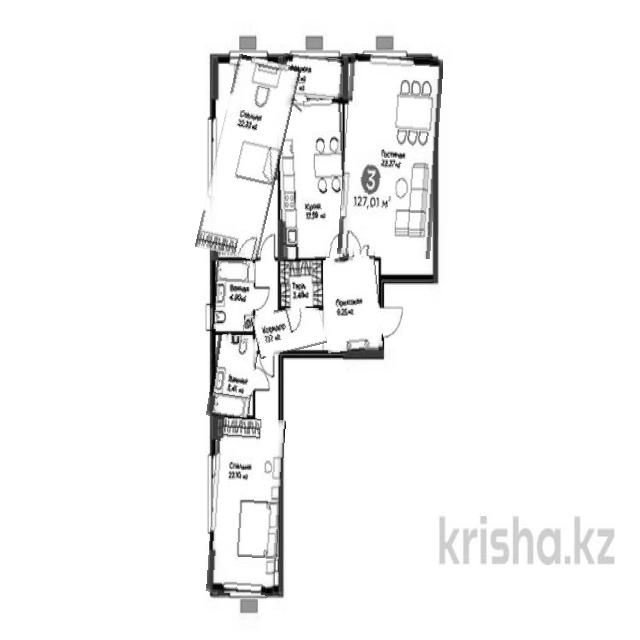balcony: (281, 55, 343, 100)
bathroom: (209, 335, 257, 420), (213, 261, 254, 331)
hallway: (321, 256, 382, 353), (252, 304, 325, 356)
kitchen: (277, 100, 347, 259)
living_room: (341, 55, 440, 258), (205, 57, 291, 259), (209, 417, 283, 595)
studio: (278, 259, 323, 308)
